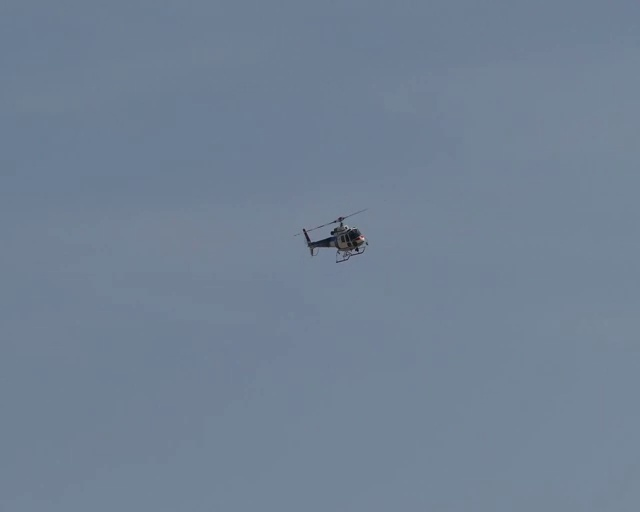HELICOPTER: (295, 207, 370, 263)
